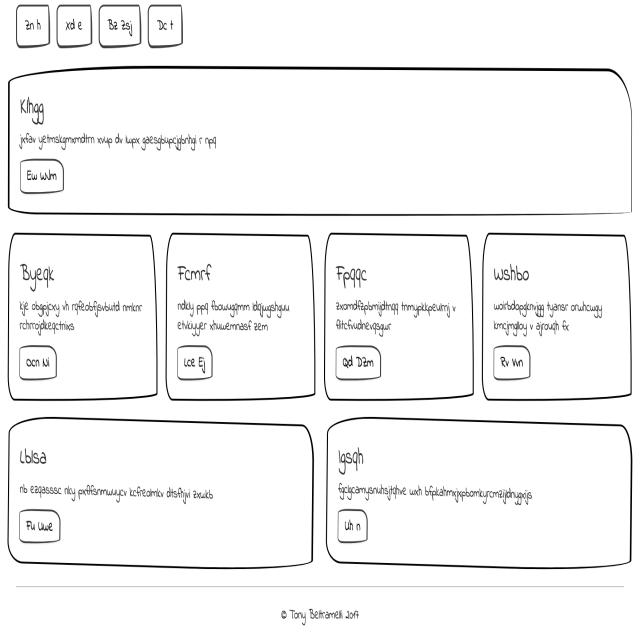Button: (13, 155, 72, 199), (332, 345, 383, 387), (168, 342, 220, 381), (19, 508, 60, 550), (492, 345, 536, 382), (340, 506, 371, 548), (17, 346, 55, 379)
Card: (2, 70, 633, 218), (329, 422, 635, 570), (8, 421, 316, 564), (322, 223, 475, 402), (166, 231, 316, 402), (486, 232, 630, 401), (10, 243, 160, 401)
Footer: (9, 577, 640, 640)
Heading 6: (18, 90, 60, 126), (493, 252, 535, 287), (14, 252, 65, 280), (330, 258, 373, 290), (177, 251, 218, 284), (16, 442, 60, 468), (339, 441, 367, 478)
Navigation Bar: (6, 6, 193, 54)
Paragraph: (15, 124, 230, 163), (13, 291, 144, 338), (489, 297, 620, 339), (174, 298, 298, 338), (18, 481, 222, 501), (333, 298, 452, 332), (330, 483, 538, 502)
